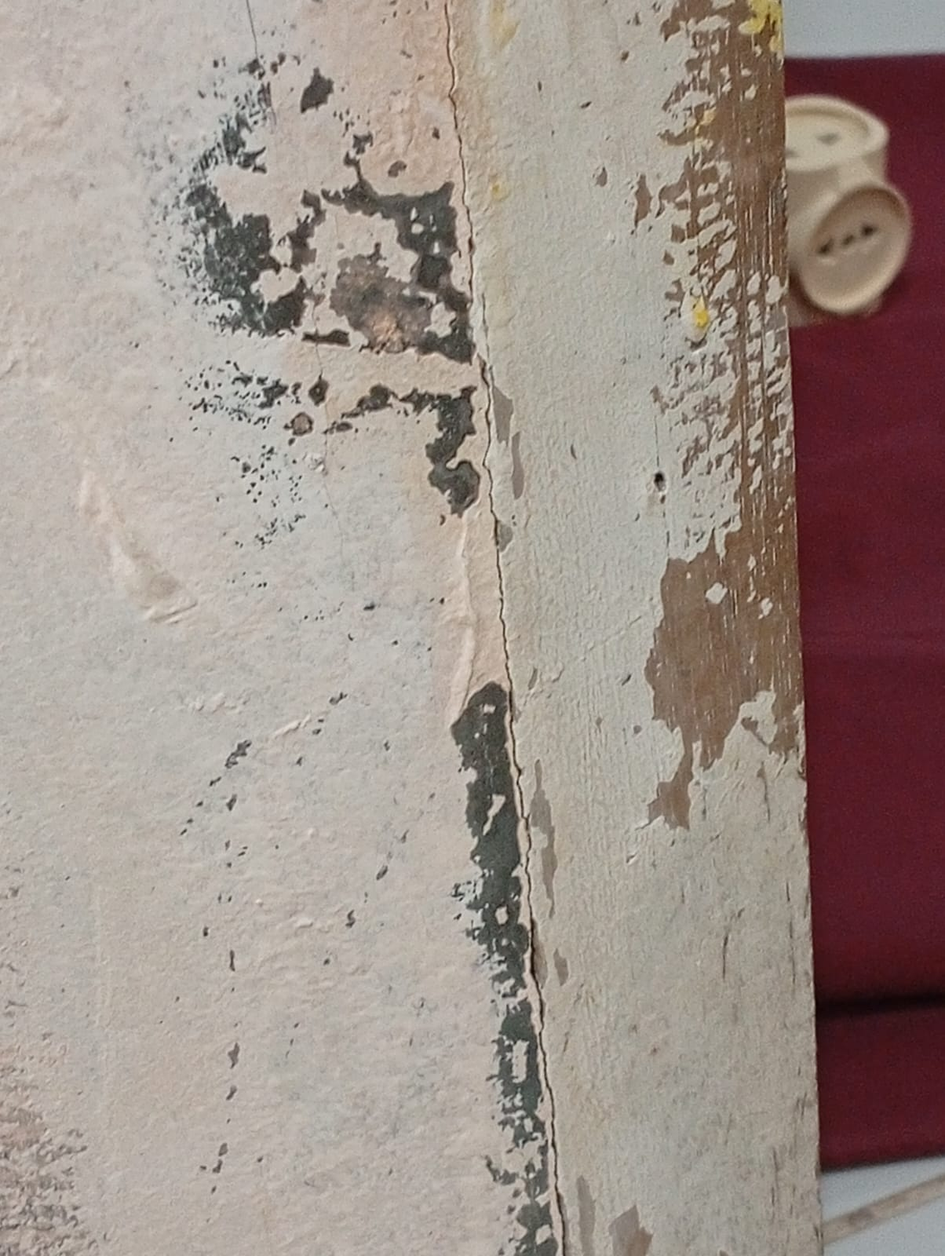Colokan: (772, 53, 922, 369)
